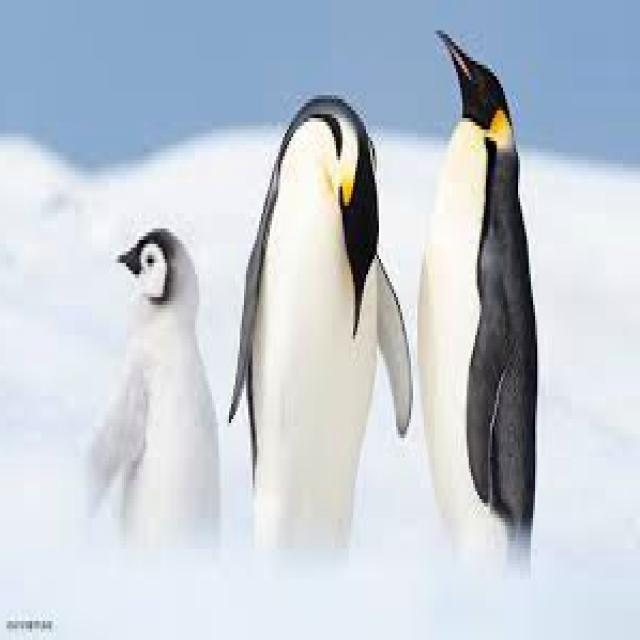penguin: (231, 95, 413, 545), (420, 30, 537, 556), (90, 229, 220, 545)
